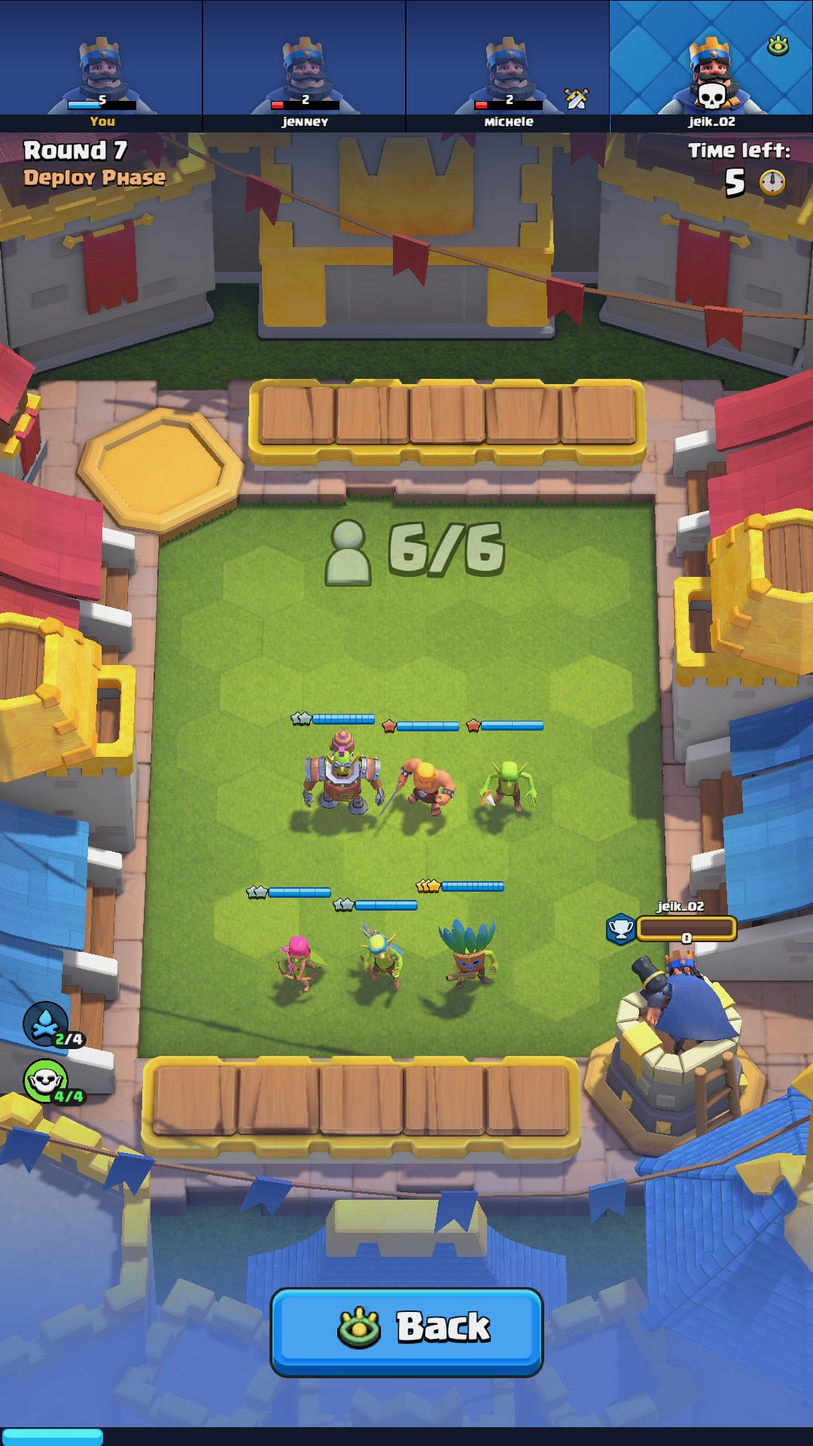archer: (276, 925, 334, 1014)
barbarian: (385, 738, 462, 833)
dart: (434, 906, 518, 995)
goblin: (467, 746, 548, 828)
machine: (299, 729, 389, 822)
spear: (356, 921, 420, 1005)
